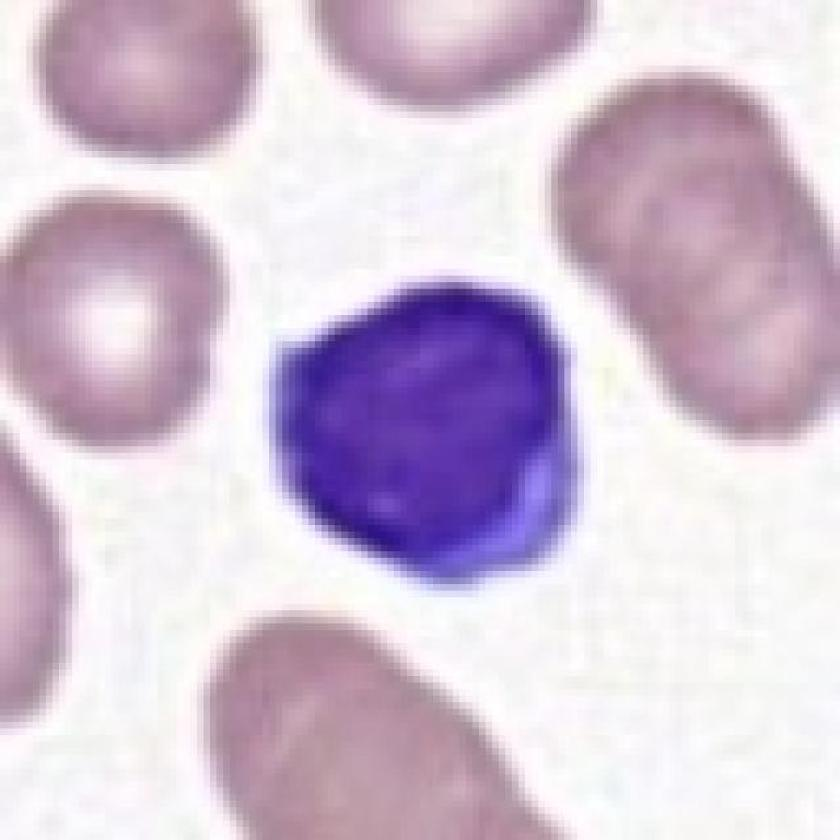lymphocyte: (262, 271, 593, 589)
